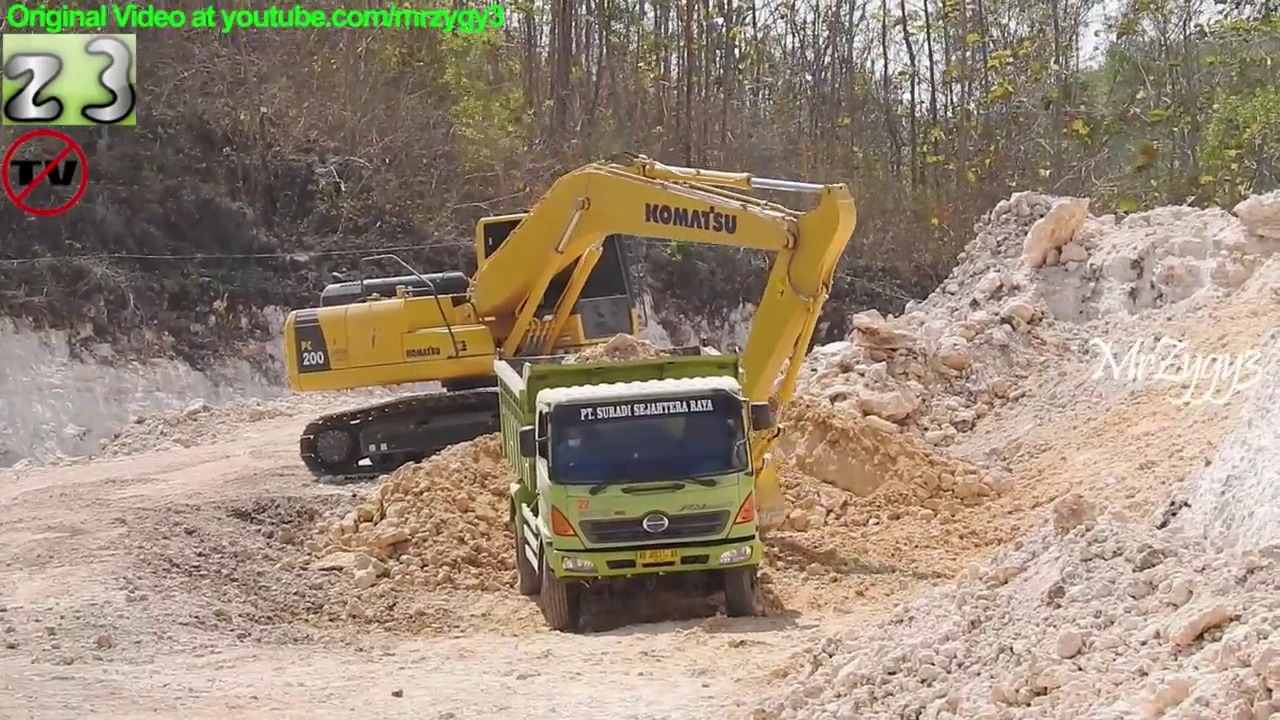excavator: (278, 150, 867, 495)
truck: (491, 334, 777, 633)
